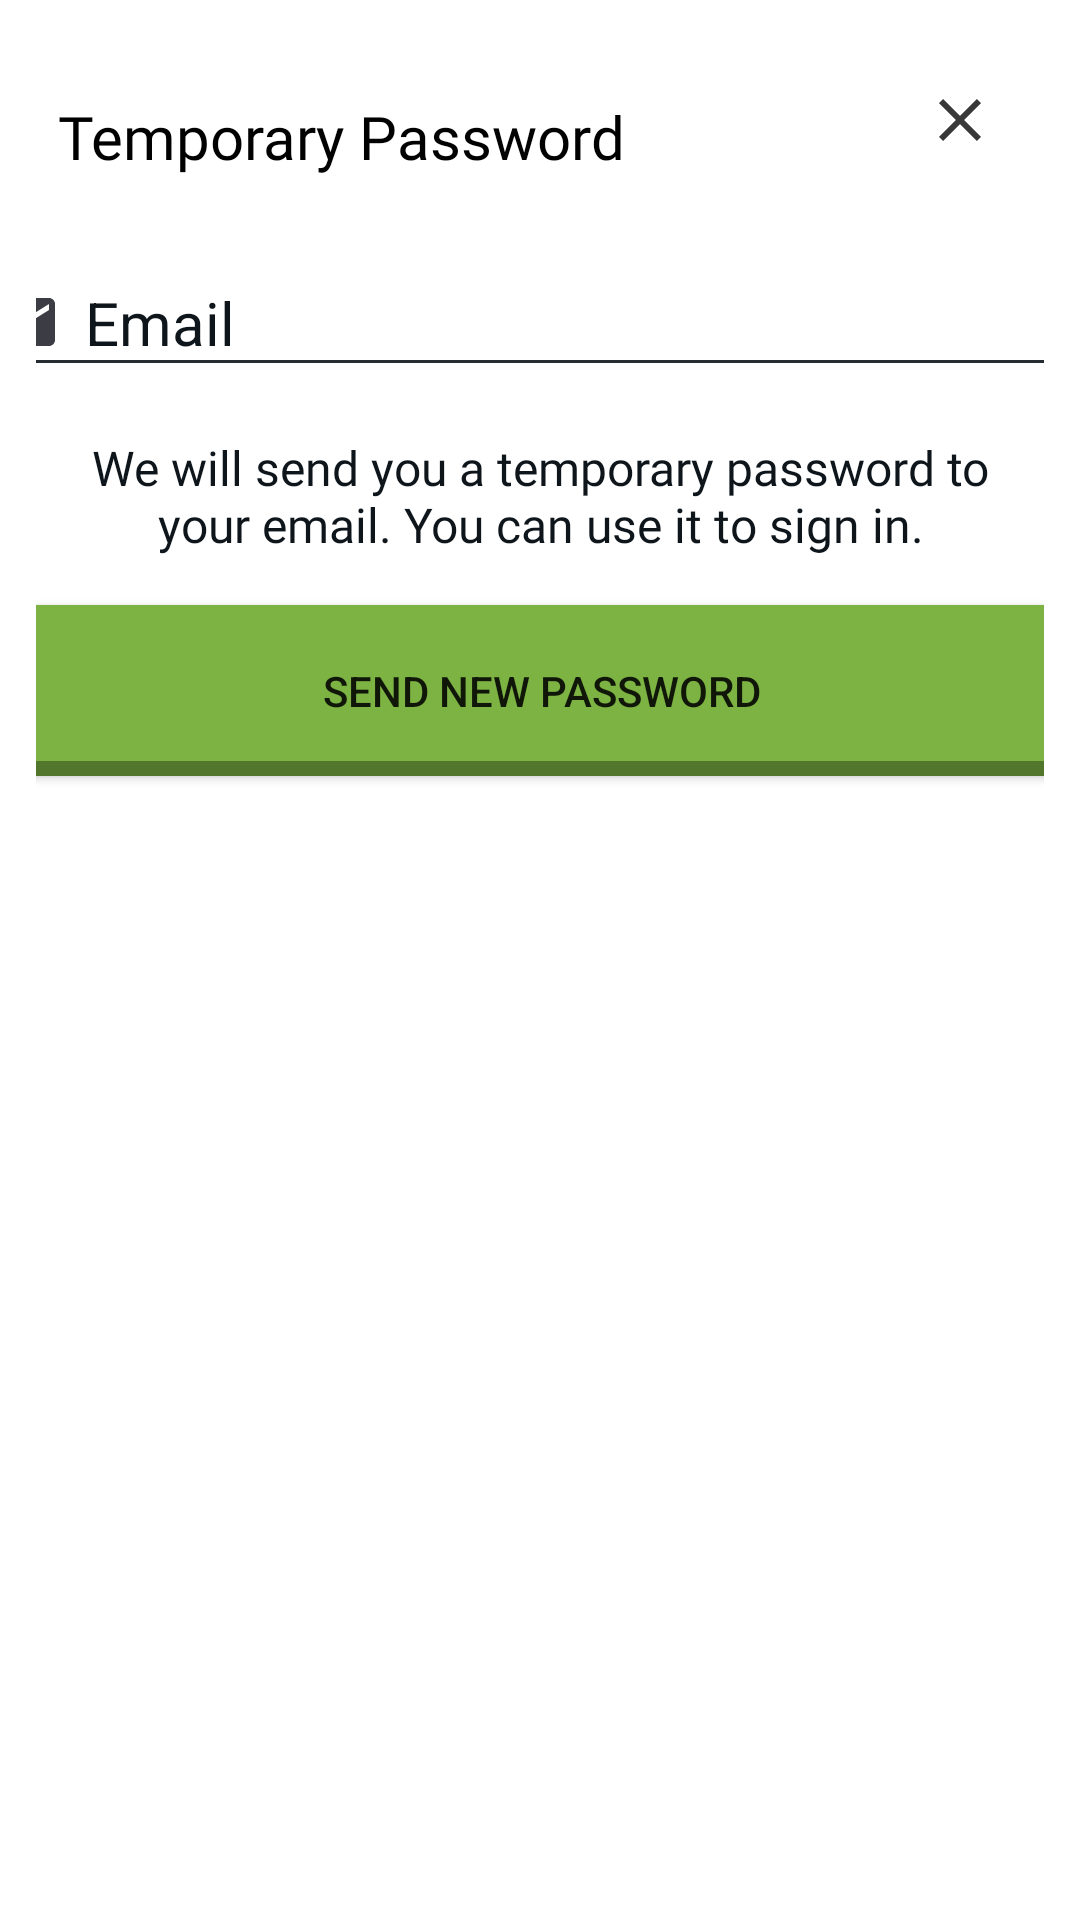

Named icons in this screenshot (1080px×1920px) and their bounding boxes, (x1, y1, x2, y2):
close: (939, 99, 981, 141)
